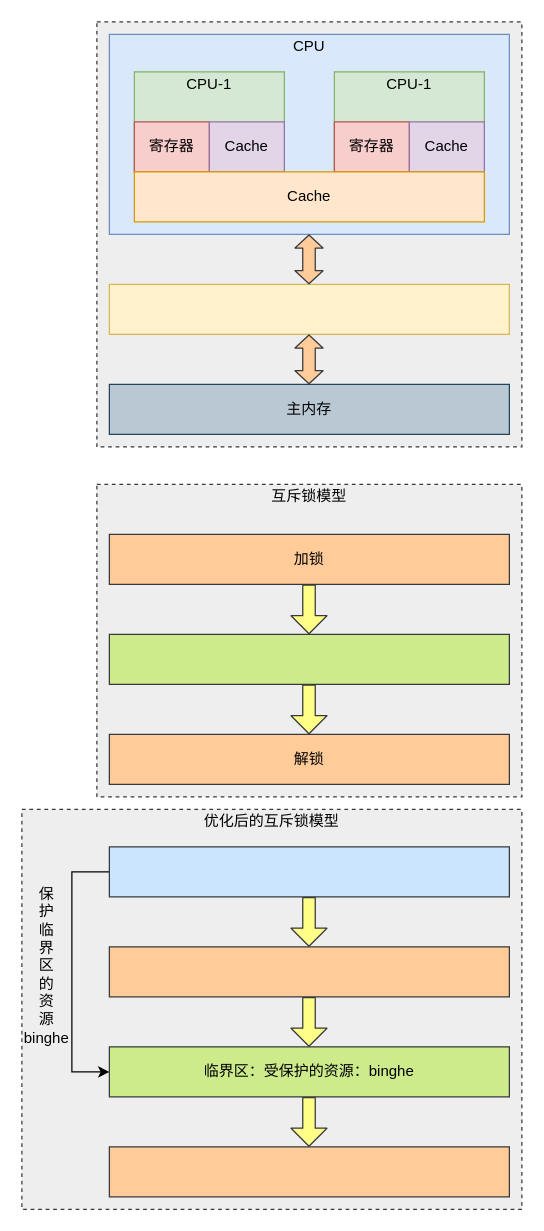
Image size: 544x1231. Some labels were removed from this diagram. Each missing label, with the centre of its shape:
临界区: point 308,658
创建保护临界区资源binghe的锁对象：BH: point 308,871
加锁（对BH加锁）: point 308,971
总线: point 308,308
解锁（对BH解锁）: point 308,1171
